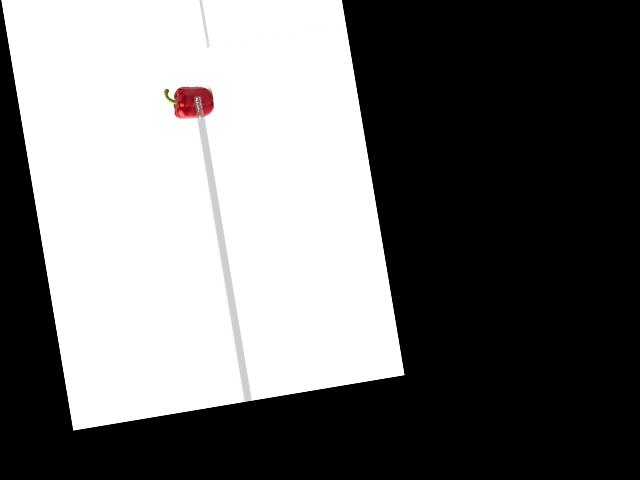bell_pepper: (160, 77, 214, 125)
